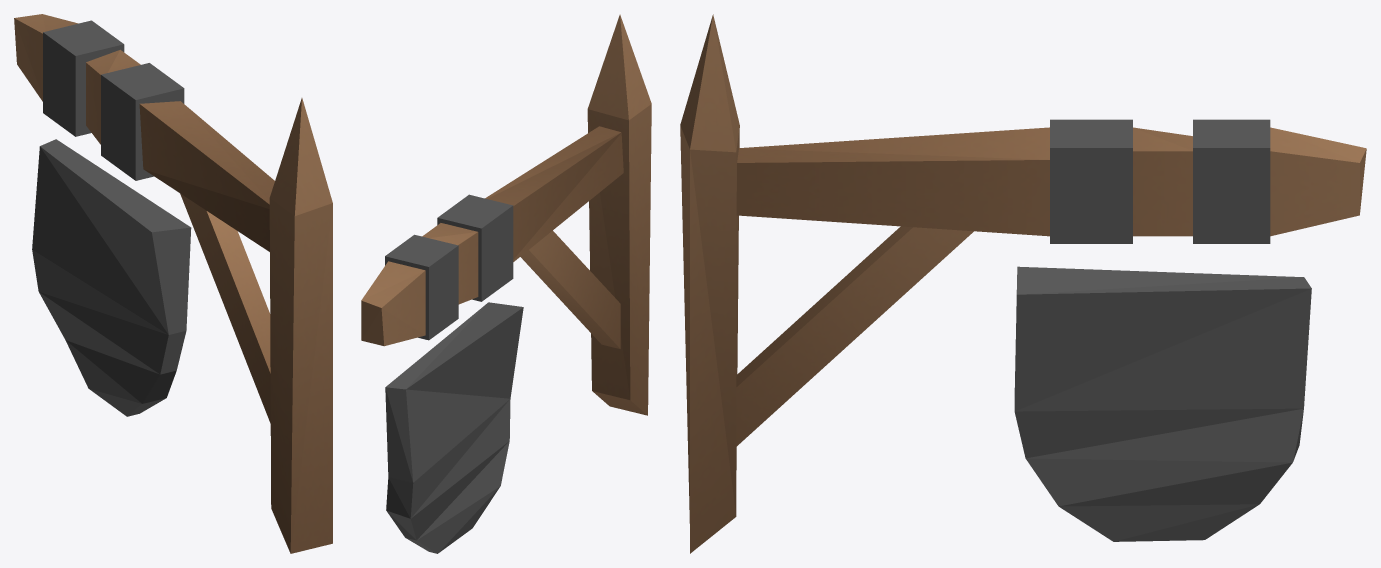
File: ZLP_Build_D_16.FBX
The picture shows the model from 3 angles, left to right: view 1: azimuth 30°, elevation 25°; view 2: azimuth 150°, elevation 25°; view 3: azimuth 270°, elevation 25°; orthographic projection. The views are drawn at different scales.
Visible parts, largest first — view 1: ZLP_Build_D_16; view 2: ZLP_Build_D_16; view 3: ZLP_Build_D_16.
Boxes of the visible parts, x1,y1,x2,y2 form: ZLP_Build_D_16: [14, 14, 332, 553]; ZLP_Build_D_16: [361, 14, 651, 553]; ZLP_Build_D_16: [680, 14, 1366, 553].
Bounding box in the file's own units: 15.7 × 133 × 157.
